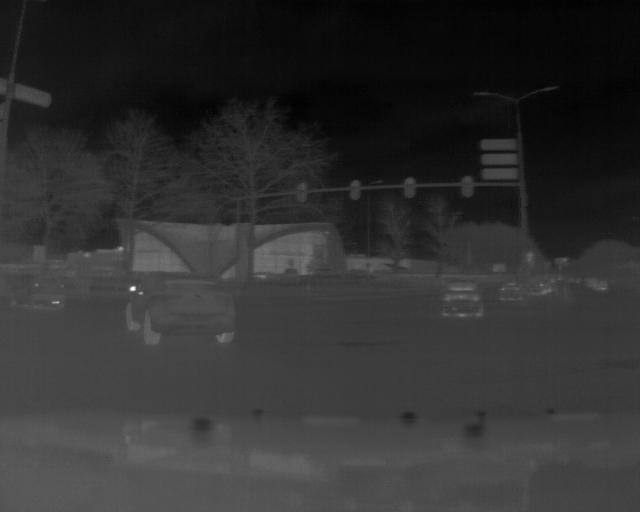car: (127, 274, 244, 343), (10, 265, 68, 311), (447, 281, 489, 318), (532, 278, 562, 301), (501, 278, 526, 301)
